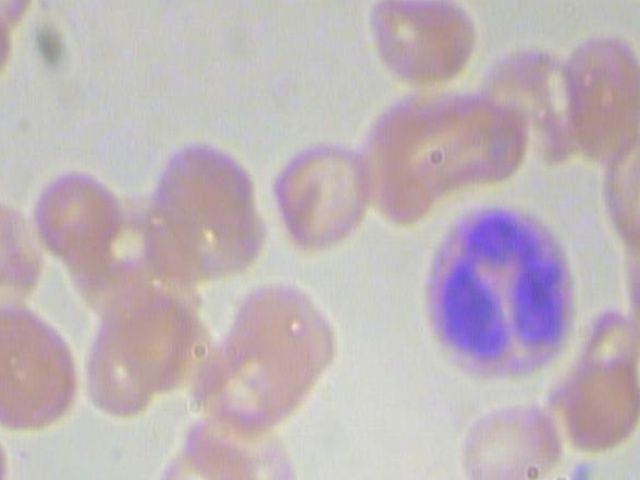RBC: (133, 133, 266, 279), (222, 273, 338, 403), (263, 133, 378, 250), (554, 28, 640, 175), (0, 298, 83, 428), (364, 0, 479, 93), (451, 397, 572, 480), (550, 346, 640, 453), (26, 166, 123, 254), (147, 431, 253, 480), (0, 0, 40, 35)
WBC: (404, 198, 596, 391), (348, 476, 384, 480)
